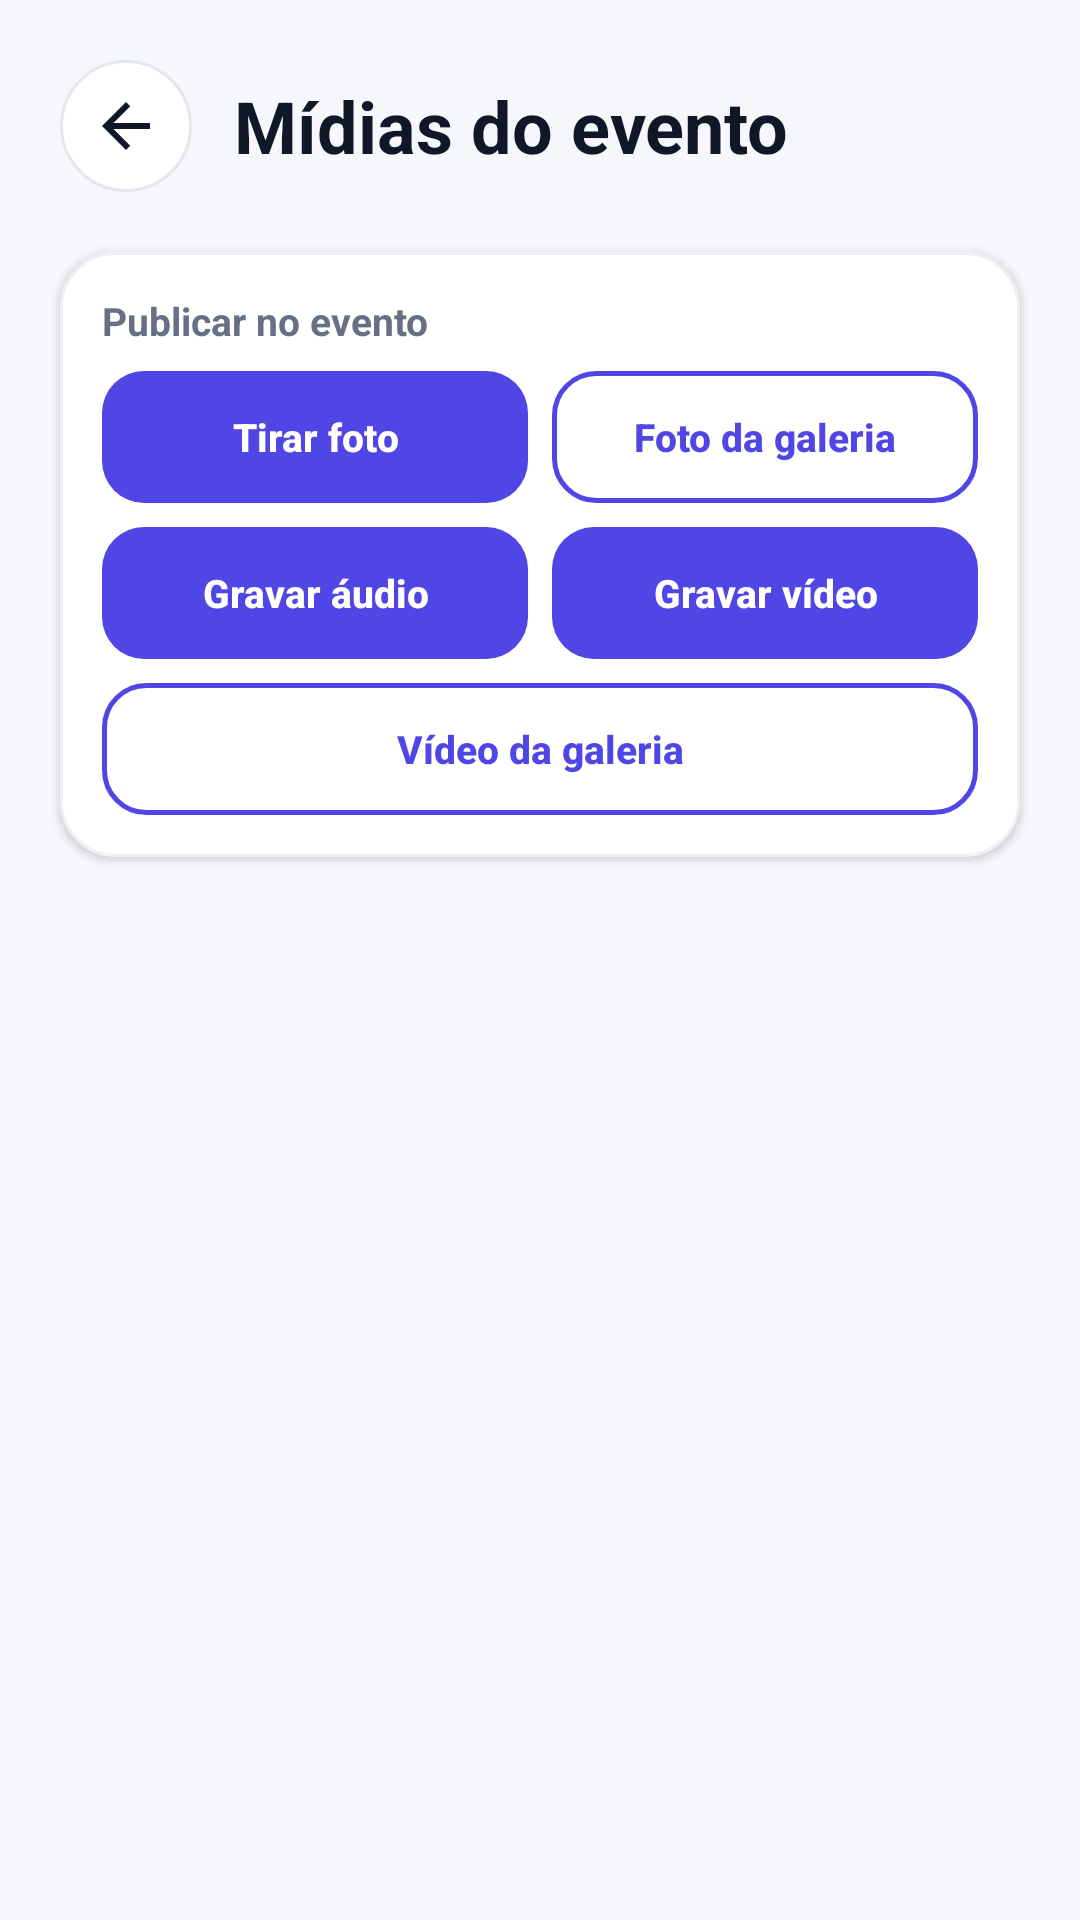

Named icons in this screenshot (1080px x 1920px) and their centers, (x=x, y=y):
Voltar: (x=126, y=126)
